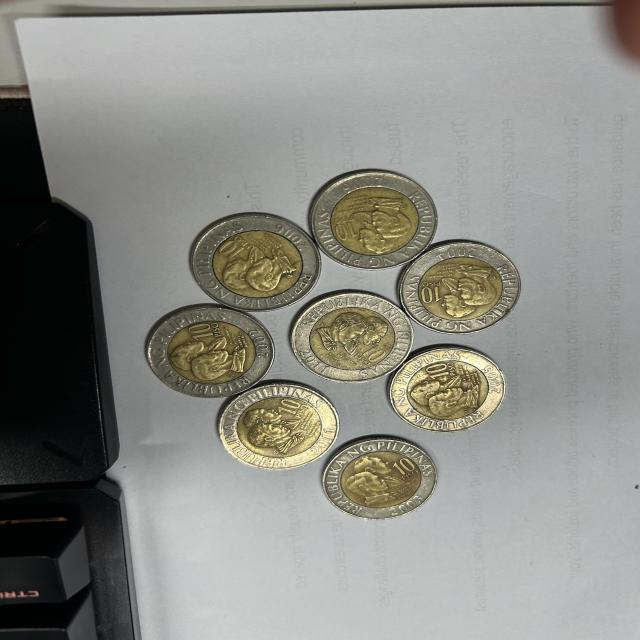10_Old_Front: (186, 321, 218, 339), (216, 240, 245, 258), (416, 284, 444, 302), (424, 362, 451, 380), (394, 456, 419, 474), (360, 344, 384, 362), (336, 222, 358, 241), (279, 399, 303, 416)
